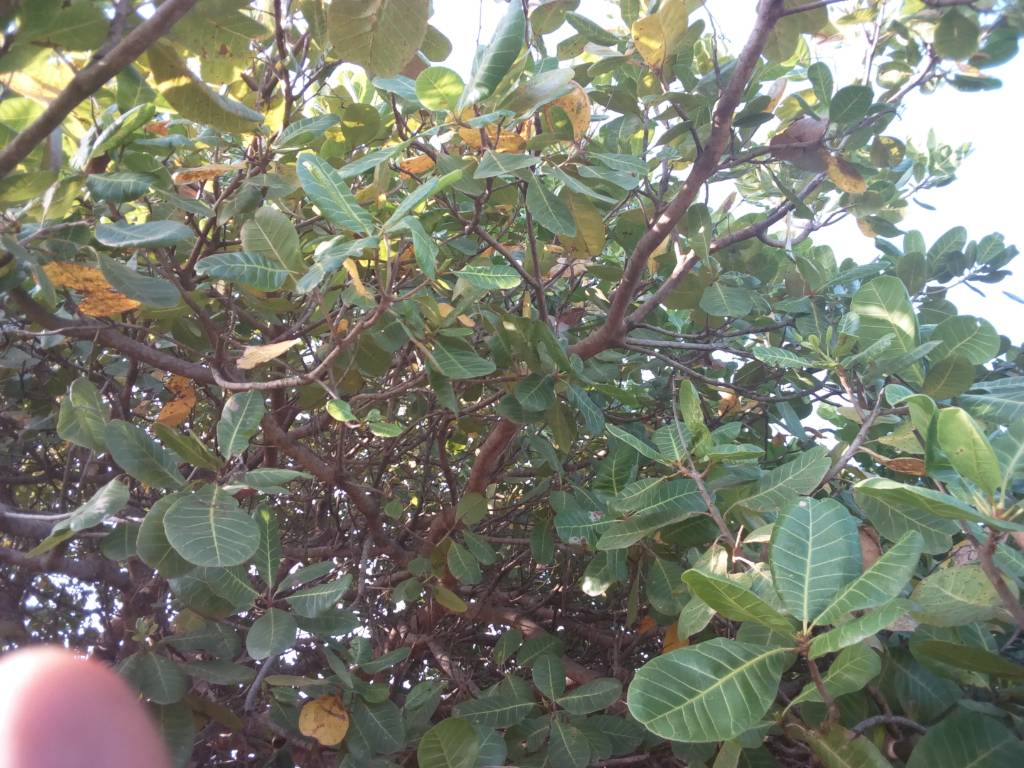Helopeltis anacardii: (197, 252, 293, 291), (94, 219, 195, 246)
